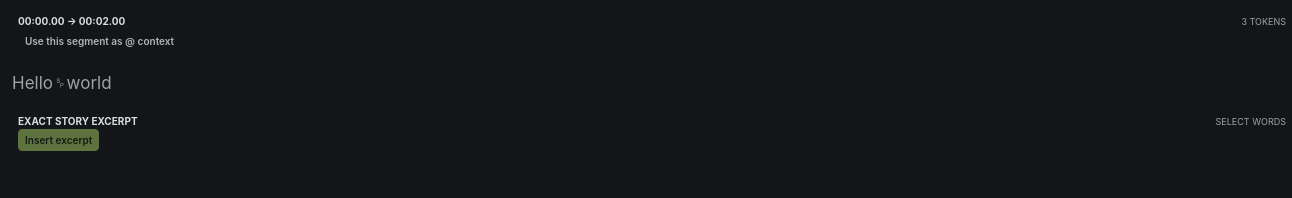
Test case: CreatorTranscriptExcerpt › keeps a committed insertion successful when the follow-up Story refresh fails
The width and height of the screenshot is (1292, 198).
Click the button with aria-label "Select token 1 · Hello" at [32, 83], box [12,67,53,100]
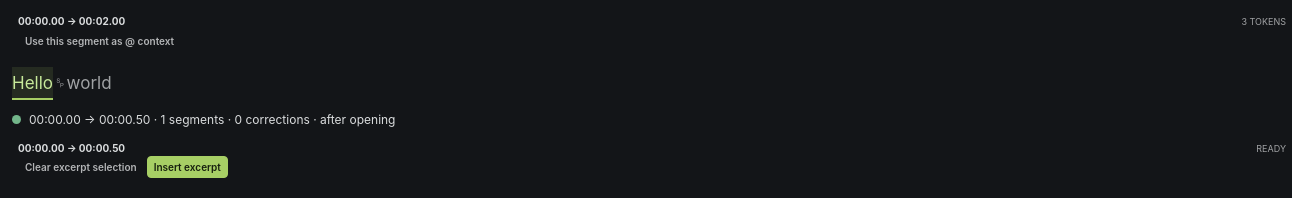
Click the button with aria-label "Select token 3 · world" at [89, 83], box [67,67,112,100]
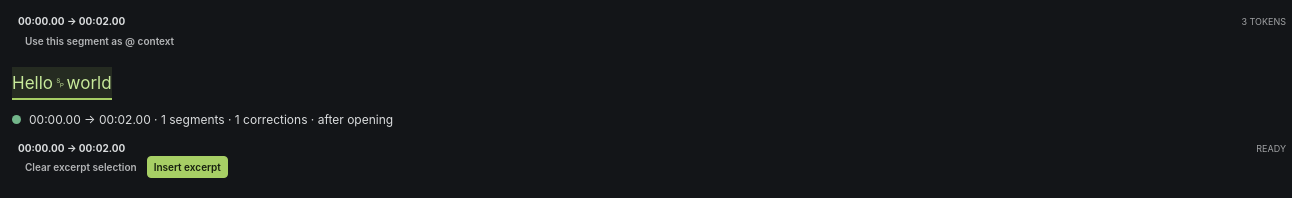
Click the button "Insert excerpt" at [187, 168], box [147,156,228,178]
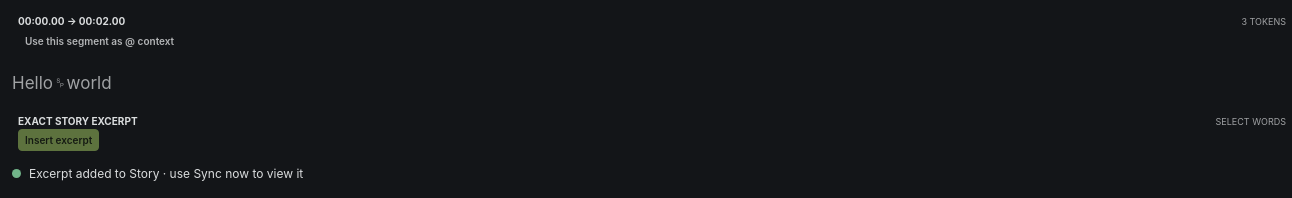
Now the text "Excerpt added to Story · use Sync now to view it" is shown, box [29,166,303,182]
